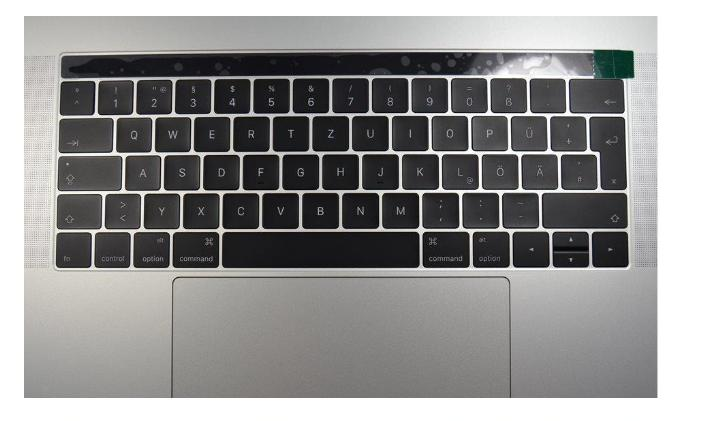0: (449, 74, 487, 111)
1: (96, 77, 132, 113)
2: (134, 76, 172, 113)
3: (173, 76, 210, 113)
4: (212, 75, 249, 112)
5: (251, 75, 289, 112)
6: (290, 75, 329, 111)
7: (330, 75, 368, 111)
8: (370, 75, 408, 111)
9: (409, 74, 447, 111)
a: (123, 152, 159, 189)
accent: (528, 75, 565, 111)
ae: (519, 151, 557, 188)
alt-left: (132, 229, 170, 267)
altgr-right: (469, 228, 509, 267)
b: (299, 189, 338, 227)
c: (220, 190, 258, 228)
caret: (58, 78, 93, 113)
comma: (419, 189, 458, 227)
d: (201, 151, 238, 189)
del: (567, 75, 623, 111)
e: (191, 113, 229, 150)
enter: (587, 113, 625, 189)
f: (241, 151, 278, 188)
g: (280, 151, 318, 189)
h: (320, 151, 357, 189)
hash: (558, 151, 595, 188)
i: (390, 112, 427, 149)
j: (360, 151, 397, 188)
k: (399, 150, 438, 188)
keyboard: (45, 46, 641, 277)
l: (439, 151, 477, 188)
less: (102, 190, 140, 227)
m: (379, 189, 418, 227)
minus: (499, 189, 538, 226)
n: (339, 190, 378, 227)
o: (429, 112, 467, 149)
oe: (479, 151, 517, 189)
p: (469, 112, 507, 149)
plus: (548, 113, 585, 149)
point: (460, 189, 498, 226)
q: (114, 114, 151, 151)
r: (231, 113, 269, 150)
s: (162, 152, 199, 189)
shift-left: (53, 191, 101, 228)
shift-lock: (56, 153, 121, 190)
shift-right: (539, 188, 626, 227)
space: (220, 229, 418, 267)
ss: (488, 75, 526, 111)
strg-left: (92, 229, 130, 267)
t: (271, 113, 308, 149)
tab: (56, 114, 112, 151)
u: (350, 112, 388, 150)
ue: (509, 112, 546, 149)
v: (260, 189, 298, 227)
w: (153, 113, 189, 151)
x: (181, 190, 219, 227)
y: (142, 190, 179, 227)
z: (310, 113, 348, 149)
